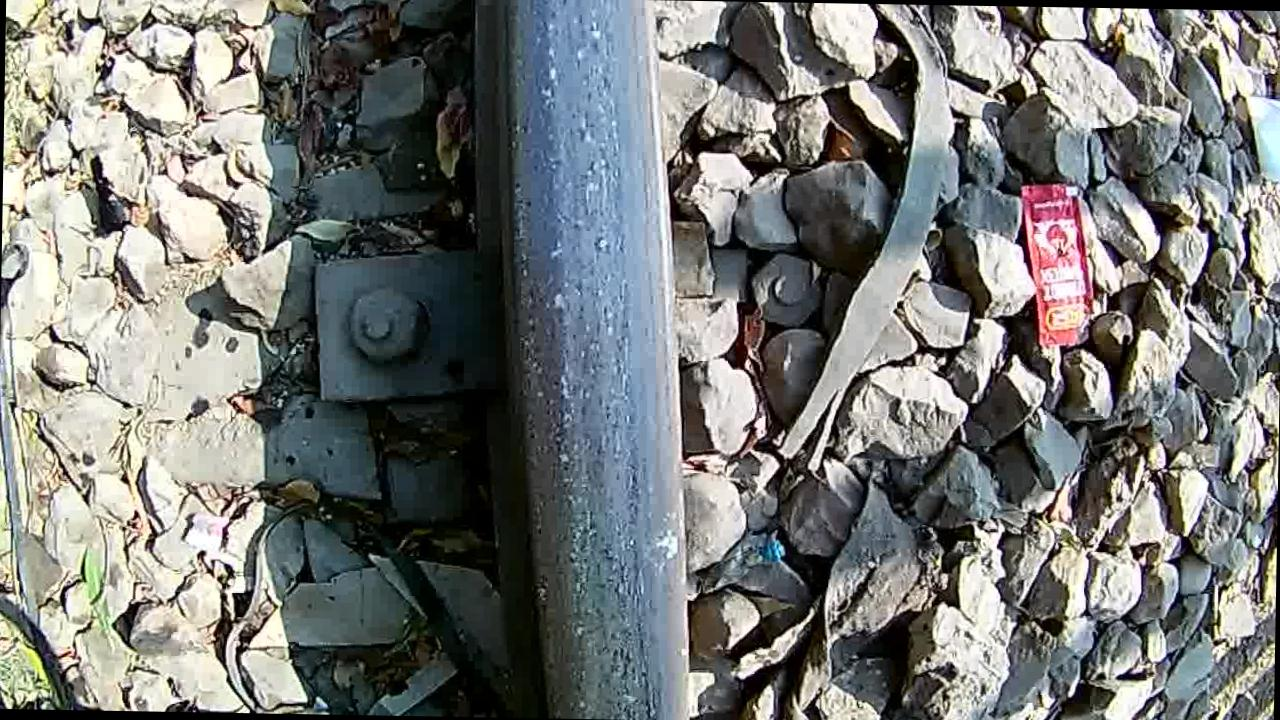clip_missing: (481, 0, 684, 720)
